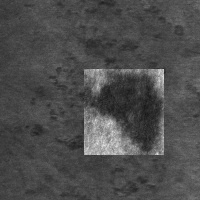patches: (84, 69, 164, 155)
rolled-in_scale: (22, 62, 157, 192)
